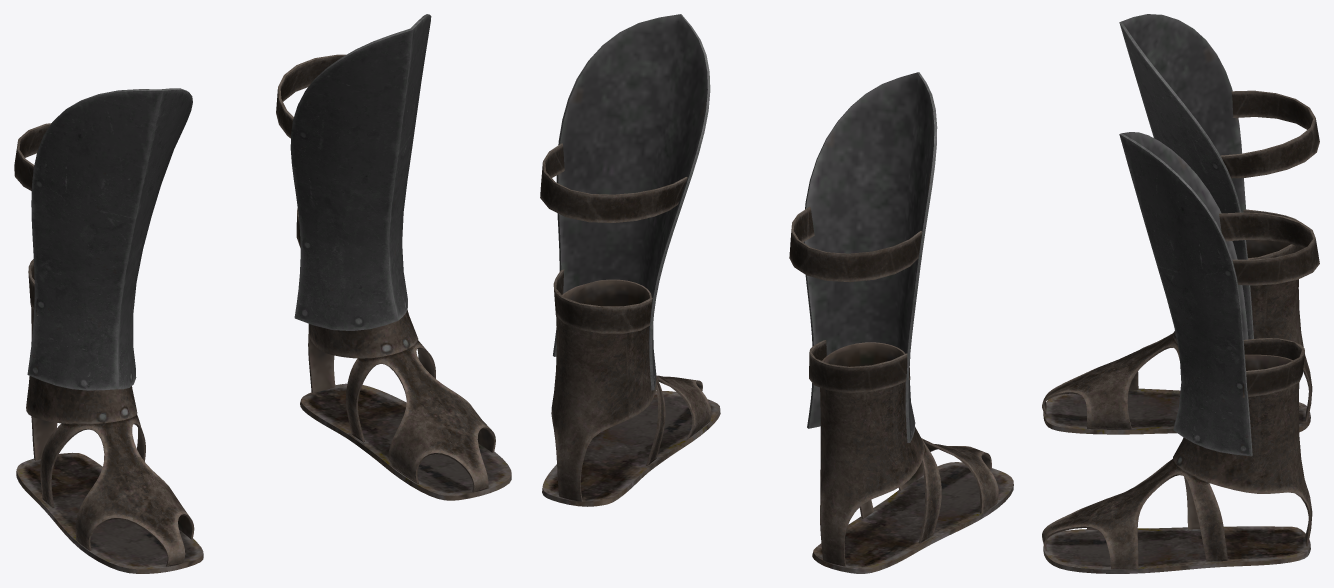
The model's file is sk_uruk_hai_greaves_medium_b1.fbx.
3 views of the same model, side by side, from view 1: azimuth 30°, elevation 25°; view 2: azimuth 150°, elevation 25°; view 3: azimuth 270°, elevation 25° (orthographic). The views are drawn at different scales.
Parts seen in each view (by area): view 1: sk_uruk_hai_greaves_medium_b1.0, sk_uruk_hai_greaves_medium_b1.1; view 2: sk_uruk_hai_greaves_medium_b1.0, sk_uruk_hai_greaves_medium_b1.1; view 3: sk_uruk_hai_greaves_medium_b1.0, sk_uruk_hai_greaves_medium_b1.1.
Boxes of the visible parts, bbox=[...] form: sk_uruk_hai_greaves_medium_b1.0: bbox=[16, 14, 511, 573]; sk_uruk_hai_greaves_medium_b1.1: bbox=[14, 54, 345, 315]; sk_uruk_hai_greaves_medium_b1.0: bbox=[542, 14, 1013, 573]; sk_uruk_hai_greaves_medium_b1.1: bbox=[540, 143, 922, 393]; sk_uruk_hai_greaves_medium_b1.0: bbox=[1042, 14, 1312, 573]; sk_uruk_hai_greaves_medium_b1.1: bbox=[1219, 90, 1319, 397].
Size of the model in its own units: 0.4635 by 0.2991 by 0.4848.
2 materials, 2 textured.
